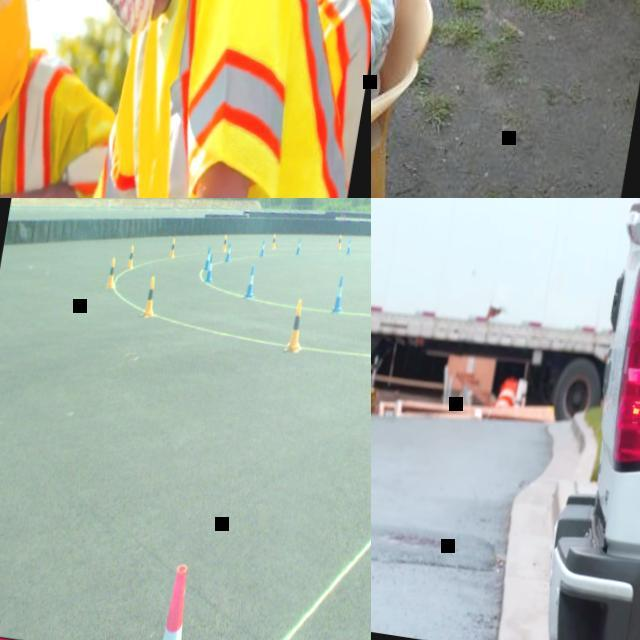helmet: (0, 0, 45, 163)
vest: (81, 0, 371, 198), (0, 20, 122, 198), (274, 0, 371, 198)
